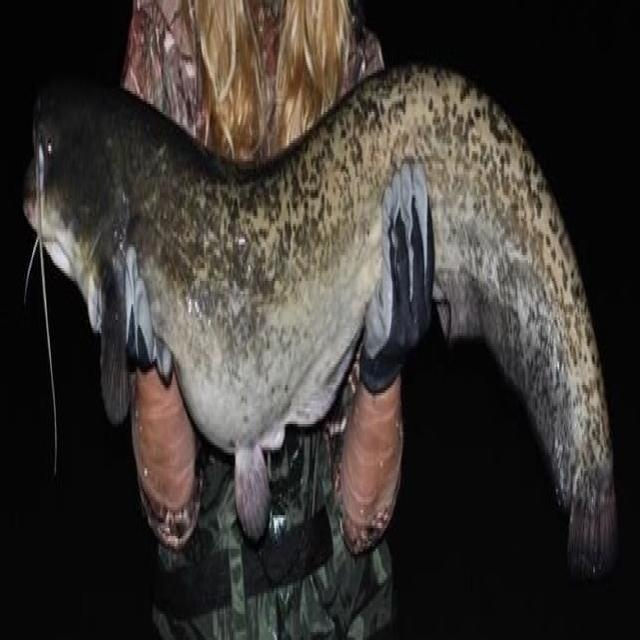Catfish: (16, 57, 632, 630)
